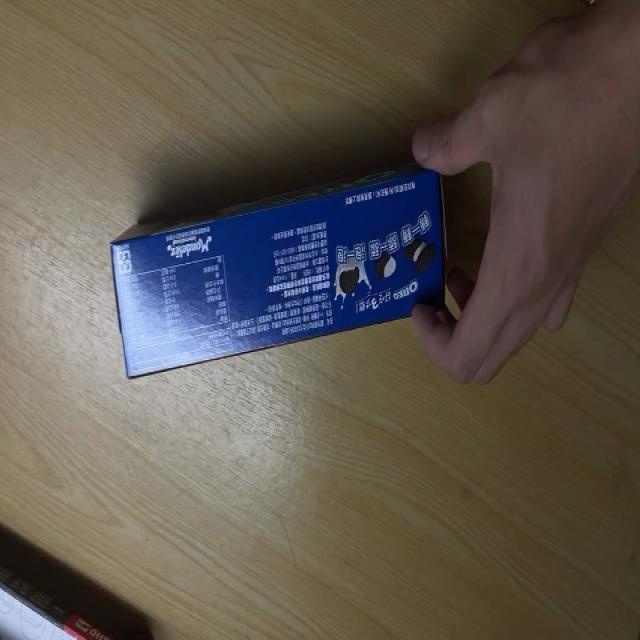Oreo: (109, 150, 448, 380)
